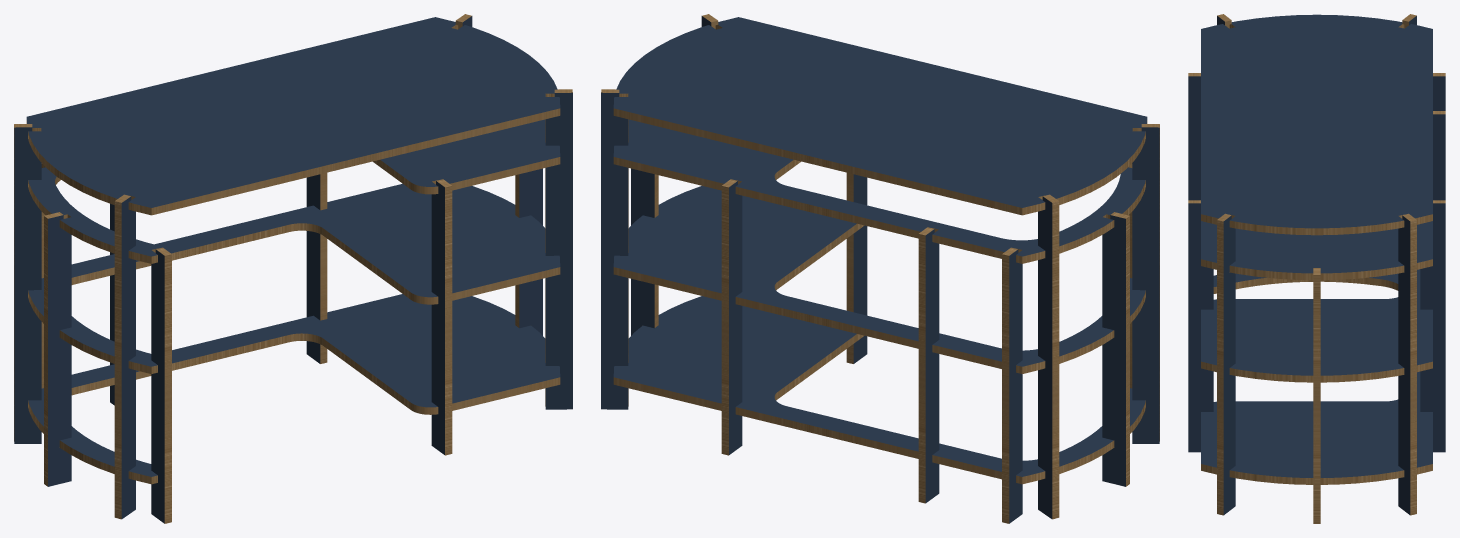
File: NODO_ESCRITORIO_CUARZO_V2.glb
The picture shows the model from 3 angles, left to right: view 1: azimuth 30°, elevation 25°; view 2: azimuth 150°, elevation 25°; view 3: azimuth 270°, elevation 25°; orthographic projection. The views are drawn at different scales.
Visible parts, largest first — view 1: Tapa, Estante_inferior_2, Estante_inferior_1, Estante_inferior_3, Lateral_izquierdo_atras, Lateral_derecho_frente, Montante_corto_extremo_izquierdo, Lateral_izquierdo_frente, Montante_bajo_2, Montante_bajo_1, Montante_bajo_5, Montante_corto_extremo_derecho; view 2: Tapa, Estante_inferior_1, Estante_inferior_2, Estante_inferior_3, Lateral_izquierdo_frente, Lateral_derecho_atras, Montante_corto_extremo_izquierdo, Lateral_izquierdo_atras, Montante_bajo_5, Montante_bajo_4, Montante_bajo_3, Montante_bajo_2 (+1 smaller); view 3: Tapa, Estante_inferior_1, Estante_inferior_2, Estante_inferior_3, Lateral_derecho_frente, Lateral_derecho_atras, Montante_bajo_2, Montante_bajo_5, Montante_corto_extremo_derecho, Montante_bajo_1, Montante_bajo_4, Montante_bajo_3.
Boxes of the visible parts, box(x1,y1,x2,y2) form: Tapa: box(26, 17, 560, 215); Estante_inferior_2: box(28, 183, 560, 373); Estante_inferior_1: box(28, 294, 560, 484); Estante_inferior_3: box(28, 119, 560, 263); Lateral_izquierdo_atras: box(14, 124, 41, 443); Lateral_derecho_frente: box(545, 89, 572, 409); Montante_corto_extremo_izquierdo: box(44, 212, 71, 486); Lateral_izquierdo_frente: box(114, 194, 135, 519); Montante_bajo_2: box(431, 179, 452, 455); Montante_bajo_1: box(151, 247, 171, 523); Montante_bajo_5: box(306, 172, 327, 363); Montante_corto_extremo_derecho: box(515, 168, 542, 335); Tapa: box(613, 17, 1147, 215); Estante_inferior_1: box(613, 296, 1145, 484); Estante_inferior_2: box(613, 186, 1145, 373); Estante_inferior_3: box(613, 119, 1145, 263); Lateral_izquierdo_frente: box(1132, 124, 1159, 443); Lateral_derecho_atras: box(601, 89, 628, 409); Montante_corto_extremo_izquierdo: box(1102, 212, 1129, 486); Lateral_izquierdo_atras: box(1038, 194, 1059, 519); Montante_bajo_5: box(721, 179, 742, 455); Montante_bajo_4: box(918, 227, 939, 503); Montante_bajo_3: box(1002, 247, 1022, 523); Montante_bajo_2: box(846, 172, 867, 363); Tapa: box(1201, 14, 1432, 235); Estante_inferior_1: box(1201, 273, 1432, 484); Estante_inferior_2: box(1201, 269, 1432, 382); Estante_inferior_3: box(1201, 221, 1432, 280); Lateral_derecho_frente: box(1217, 213, 1235, 515); Lateral_derecho_atras: box(1398, 213, 1416, 515); Montante_bajo_2: box(1188, 200, 1213, 452); Montante_bajo_5: box(1420, 200, 1445, 452); Montante_corto_extremo_derecho: box(1313, 268, 1320, 523); Montante_bajo_1: box(1188, 73, 1200, 200); Montante_bajo_4: box(1433, 111, 1445, 200); Montante_bajo_3: box(1433, 73, 1445, 110).
Bounding box in the file's own units: 1.26 × 0.77 × 0.61.
Materials: 2 (2 with a texture image).
